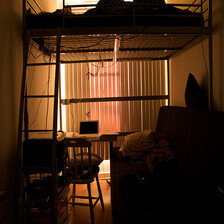laptop: (68, 112, 105, 142)
